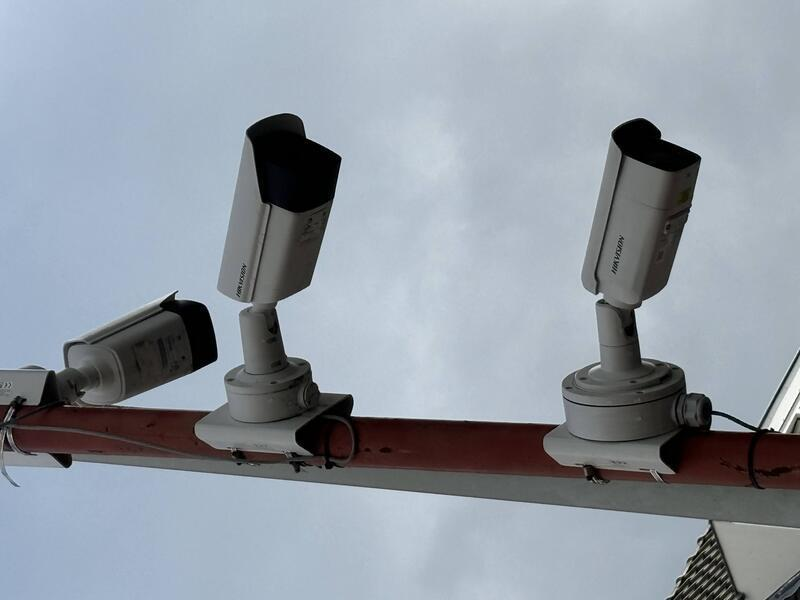bullet: (297, 216, 499, 347), (173, 51, 310, 221), (290, 569, 489, 600)
